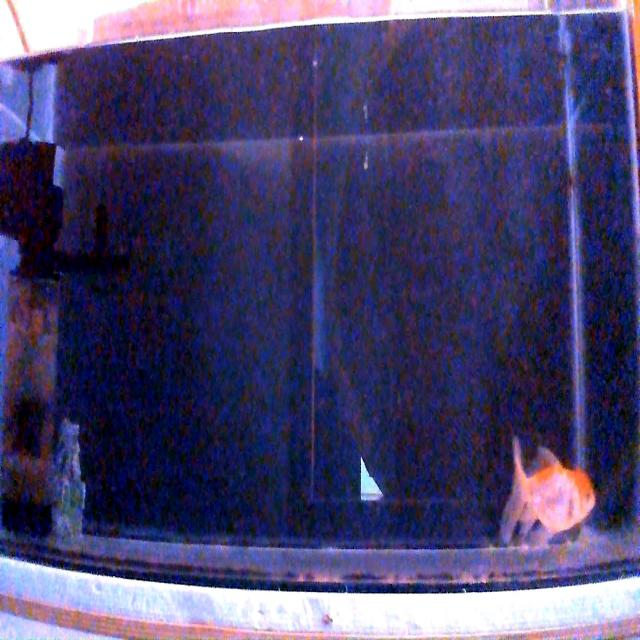fish: (501, 433, 596, 548)
